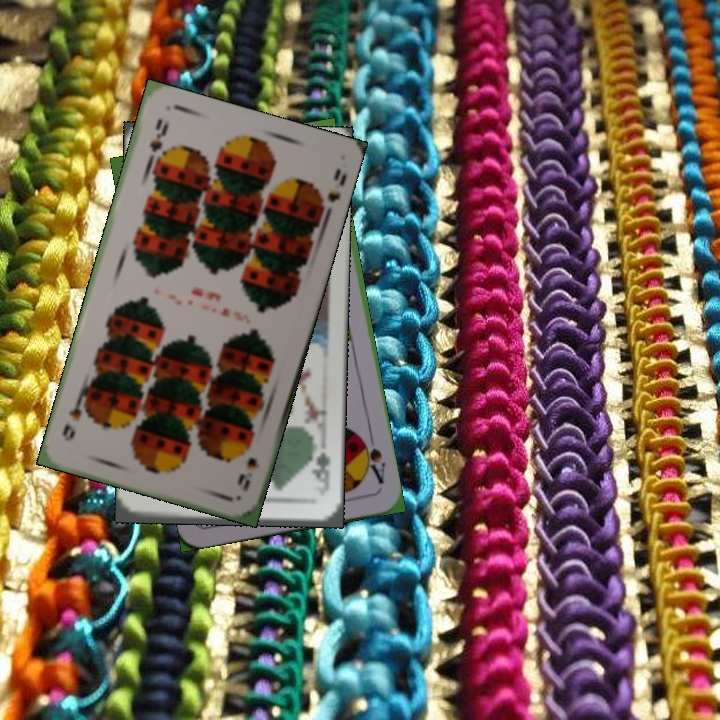GK: (309, 448, 333, 495)
S9: (143, 114, 170, 169), (233, 453, 262, 494)
SA: (356, 431, 388, 486)
